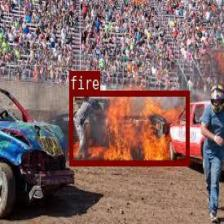fire: (68, 90, 188, 165)
